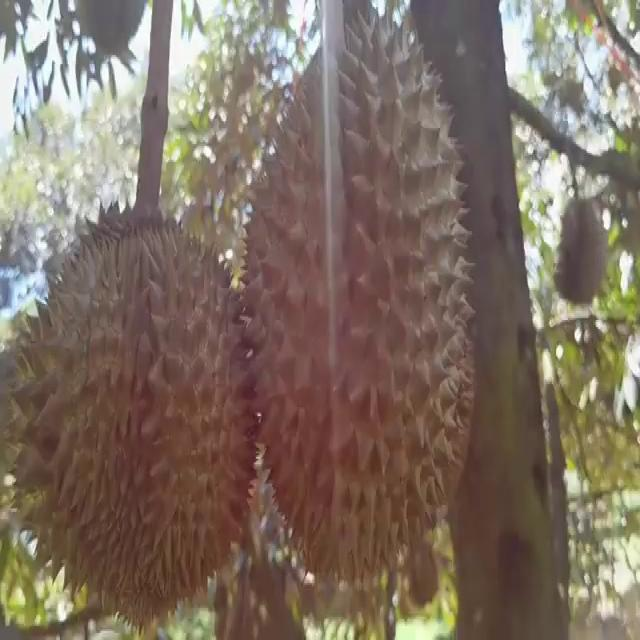durian: (242, 4, 478, 604), (8, 192, 260, 634), (551, 192, 614, 318), (406, 529, 441, 620)
